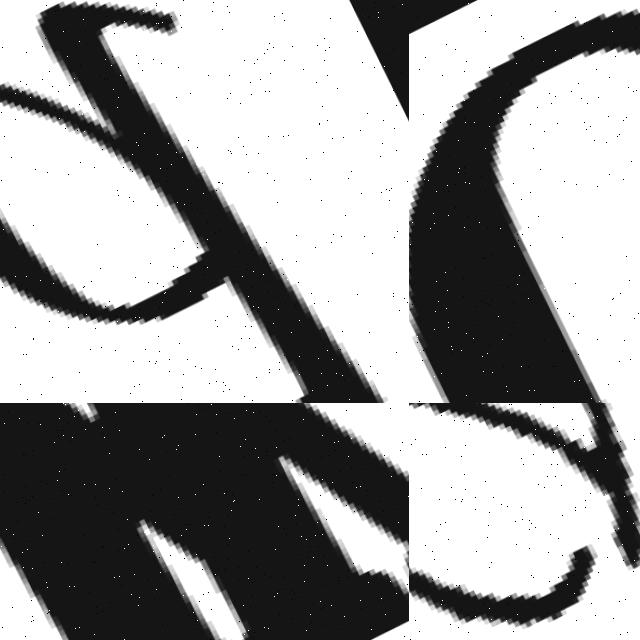D: (0, 0, 399, 403)
G: (409, 403, 640, 640)
O: (409, 8, 640, 403)
W: (0, 403, 409, 640)
